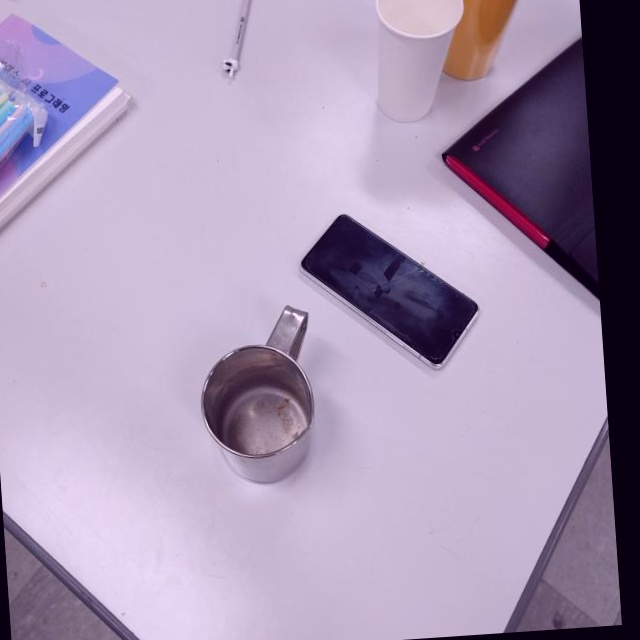cup: (193, 303, 322, 493)
phone: (294, 202, 484, 380)
